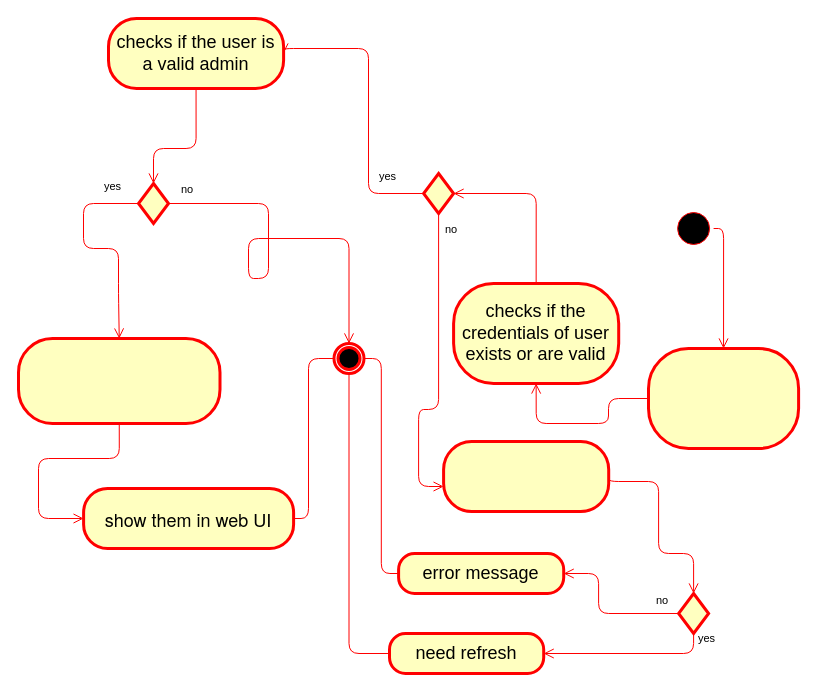
Image size: 818x692. Some labels were removed from this diagram. Each missing label, with the centre of its shape:
"check if the access token is expired" goes at point (526, 476).
"the admin enters the support page" goes at point (723, 398).
"the system finds retrieves all the open and closed tickets" goes at point (118, 380).
